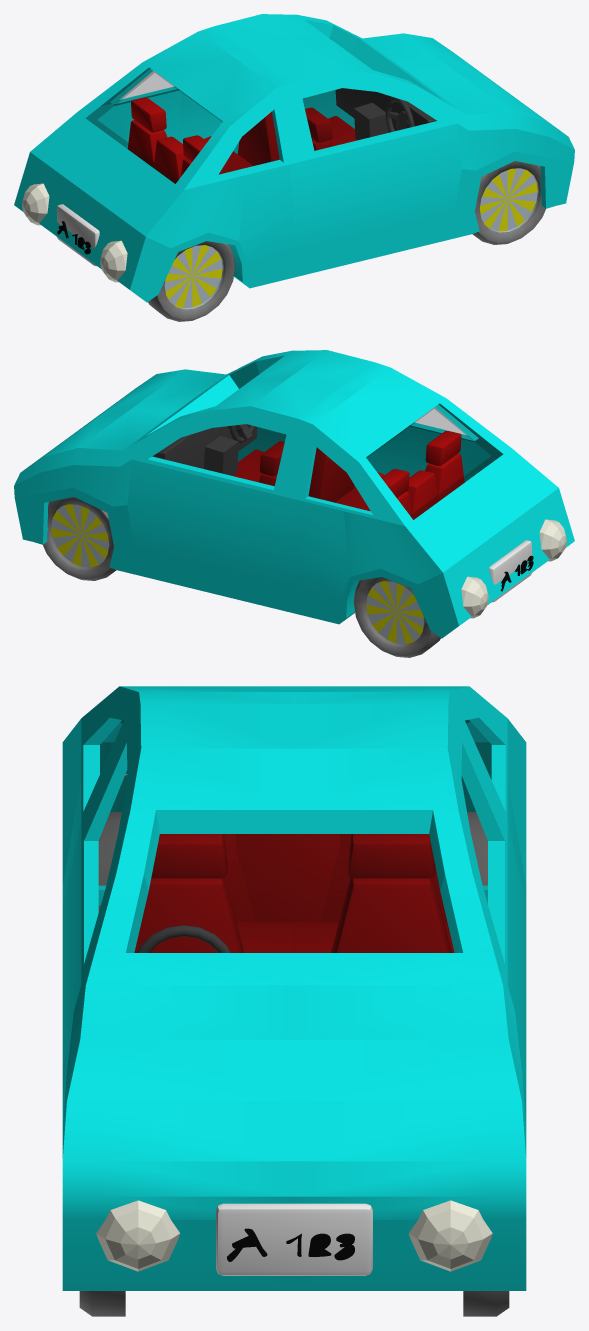
Rendered from Car.fbx.
The picture shows the model from 3 angles, top to bottom: view 1: azimuth 30°, elevation 25°; view 2: azimuth 150°, elevation 25°; view 3: azimuth 270°, elevation 25°; orthographic projection. The views are drawn at different scales.
Parts seen in each view (by area): view 1: body, wheelA, wheelB, pCube2, polySurface3, pasted__pCube5, pasted__pCube14, pasted__pCube11, pCube1, pasted__pCube12, pasted__pCube3, pasted__pCube7 (+3 smaller); view 2: body, wheeD, wheelC, pCube2, polySurface3, pasted__pCube1, pasted__pCube14, pasted__pCube9, pCube1, pasted__pCube8, pasted__pCube2, pasted__pCube6 (+2 smaller); view 3: body, pCube3, pasted__pCube14, polySurface2, pasted__pCube5, pasted__pCube1, pasted__pCube6, pasted__pCube3, pasted__pCube13, pasted__pCube11, polySurface4, pasted__pCube9 (+5 smaller).
Boxes of the visible parts, x1,y1,x2,y2 form: body: [14, 14, 574, 302]; wheelA: [148, 241, 235, 321]; wheelB: [472, 161, 545, 244]; pCube2: [335, 88, 436, 140]; polySurface3: [22, 183, 127, 282]; pasted__pCube5: [237, 111, 279, 165]; pasted__pCube14: [153, 136, 185, 183]; pasted__pCube11: [127, 120, 166, 167]; pCube1: [57, 204, 99, 266]; pasted__pCube12: [131, 97, 166, 132]; pasted__pCube3: [305, 107, 332, 142]; pasted__pCube7: [328, 116, 357, 146]; body: [14, 350, 574, 638]; wheeD: [353, 577, 440, 657]; wheelC: [43, 497, 116, 580]; pCube2: [152, 424, 257, 475]; polySurface3: [461, 519, 566, 618]; pasted__pCube1: [308, 447, 354, 502]; pasted__pCube14: [406, 470, 438, 519]; pasted__pCube9: [425, 453, 464, 501]; pCube1: [489, 540, 531, 602]; pasted__pCube8: [425, 431, 461, 465]; pasted__pCube2: [232, 449, 263, 482]; pasted__pCube6: [259, 441, 284, 476]; body: [62, 686, 526, 1290]; pCube3: [216, 1203, 372, 1275]; pasted__pCube14: [227, 834, 348, 922]; polySurface2: [96, 1200, 492, 1271]; pasted__pCube5: [331, 877, 452, 952]; pasted__pCube1: [134, 877, 244, 952]; pasted__pCube6: [348, 834, 435, 878]; pasted__pCube3: [151, 834, 227, 878]; pasted__pCube13: [236, 922, 454, 952]; pasted__pCube11: [320, 834, 447, 922]; polySurface4: [227, 1228, 354, 1261]; pasted__pCube9: [224, 834, 254, 922].
Size of the model in its own units: 11.51 by 4.83 by 5.
